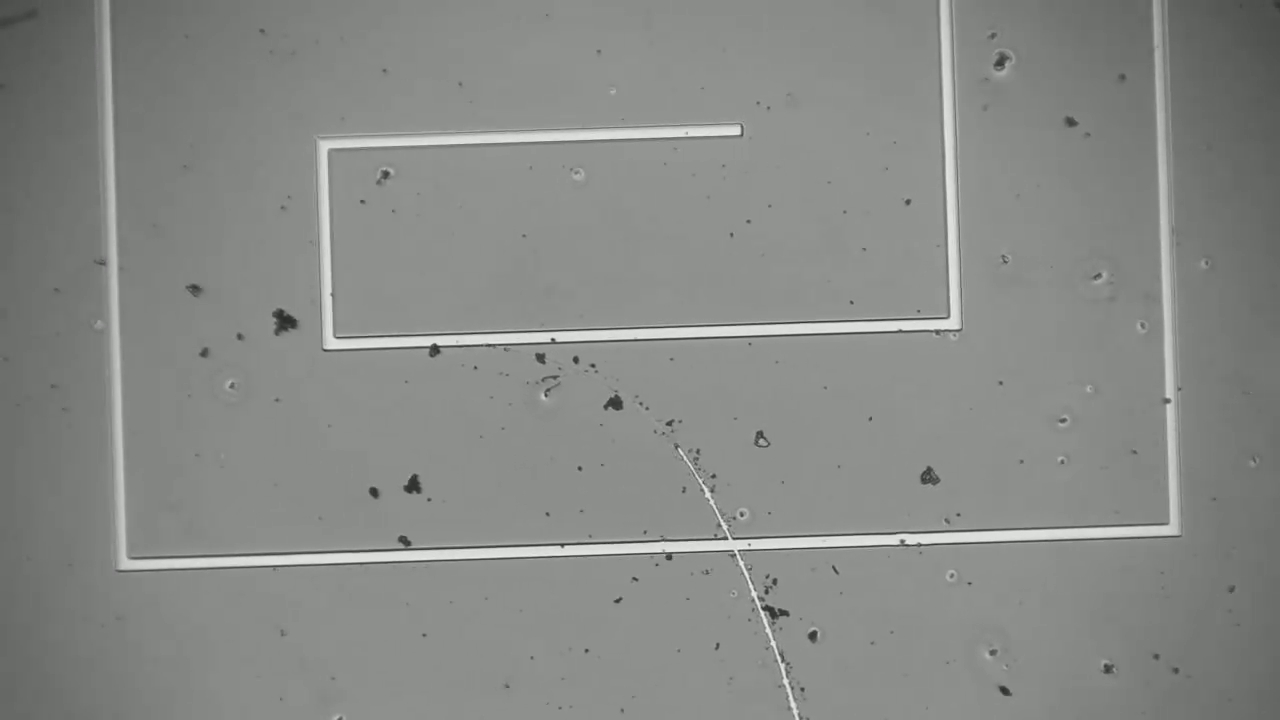scratch: (654, 404, 833, 717)
stains_enbedded: (413, 328, 448, 369)
